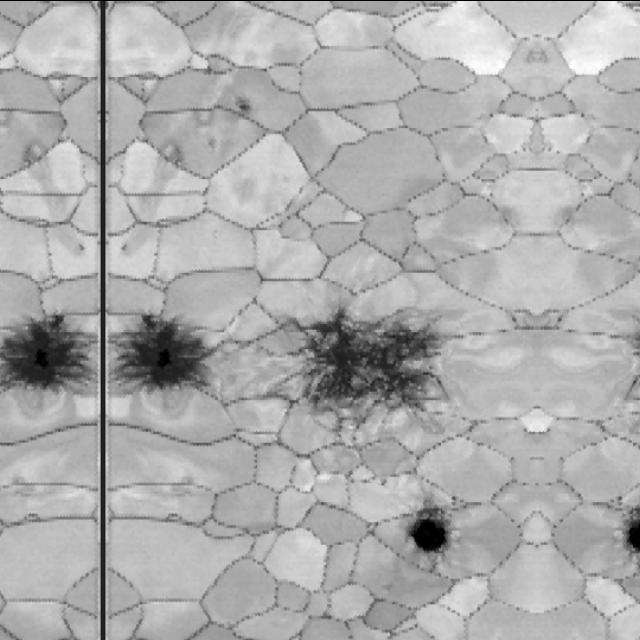good_void: (257, 277, 470, 455), (102, 317, 213, 398), (0, 317, 103, 399), (392, 496, 467, 569), (146, 131, 195, 186), (9, 132, 57, 186), (614, 512, 640, 553), (226, 94, 254, 123), (202, 135, 223, 157), (73, 241, 86, 253), (118, 241, 130, 253)
